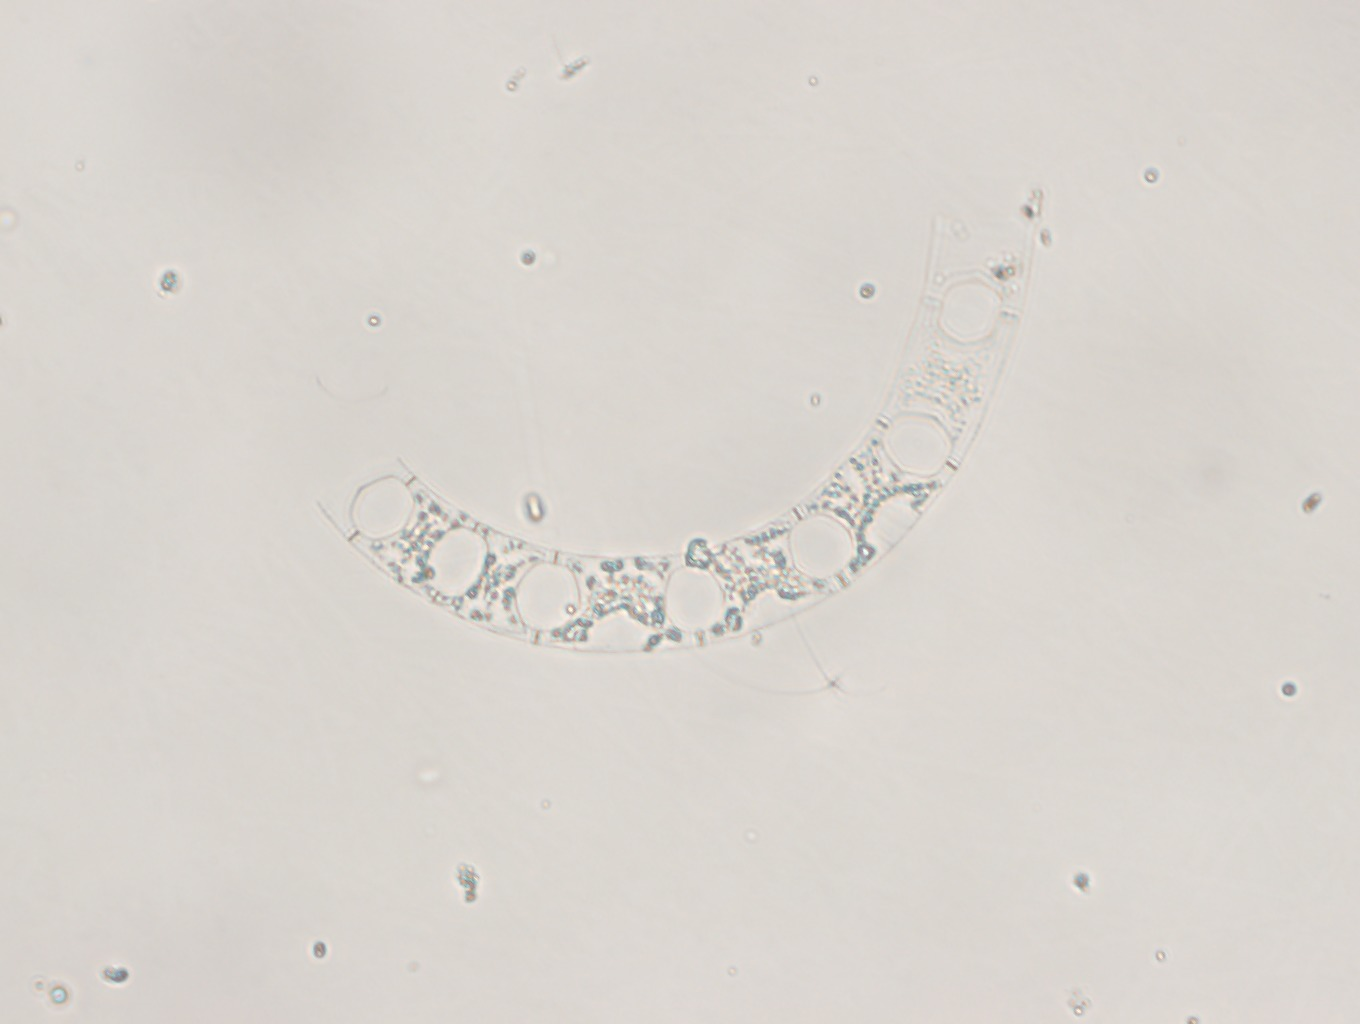eucampia: (309, 177, 1085, 662)
